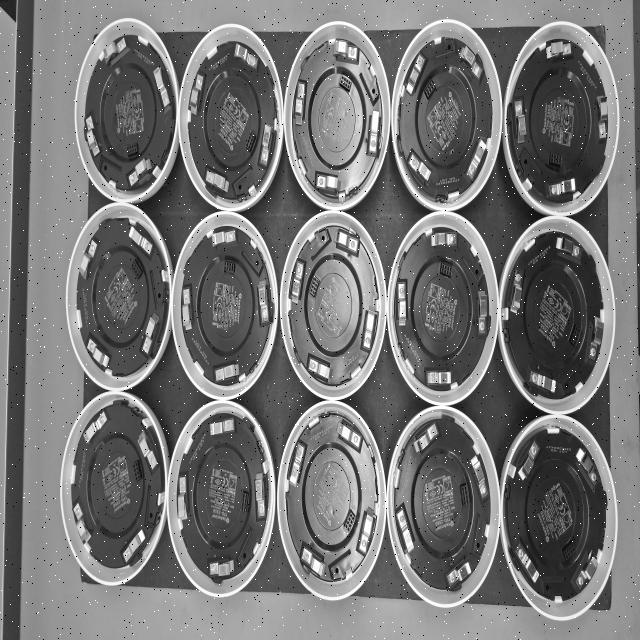yayli: (515, 542, 540, 584), (356, 508, 376, 559), (458, 44, 483, 84), (287, 438, 307, 488), (575, 445, 599, 486), (466, 138, 488, 182), (518, 441, 541, 482), (574, 551, 598, 590), (83, 408, 109, 443), (394, 504, 412, 554), (471, 455, 490, 502), (79, 237, 99, 280), (446, 557, 472, 590), (337, 418, 363, 451), (128, 224, 153, 258), (122, 528, 146, 563), (300, 543, 324, 578), (333, 226, 360, 257), (142, 311, 161, 355), (139, 429, 159, 470), (153, 66, 171, 110), (360, 308, 377, 354), (72, 502, 90, 545), (128, 157, 152, 188), (86, 338, 109, 370), (555, 235, 582, 262), (414, 422, 437, 453), (258, 124, 274, 168), (204, 166, 229, 194), (589, 316, 604, 362), (306, 354, 332, 380), (103, 37, 127, 65), (234, 43, 258, 71), (188, 74, 204, 116), (85, 114, 100, 158), (529, 371, 557, 394), (510, 272, 524, 317), (315, 172, 339, 198), (548, 178, 576, 200), (290, 261, 304, 304), (367, 110, 380, 156), (294, 81, 307, 127), (396, 280, 408, 328), (514, 99, 527, 143), (334, 40, 358, 63), (596, 96, 608, 142), (257, 278, 269, 324), (545, 40, 572, 60), (254, 474, 266, 518), (214, 363, 240, 383), (209, 558, 235, 578), (177, 474, 188, 519), (212, 228, 236, 248), (210, 418, 235, 437), (426, 370, 451, 389), (478, 290, 488, 336), (182, 287, 192, 330), (432, 231, 455, 249), (393, 468, 401, 490), (108, 179, 117, 190)
